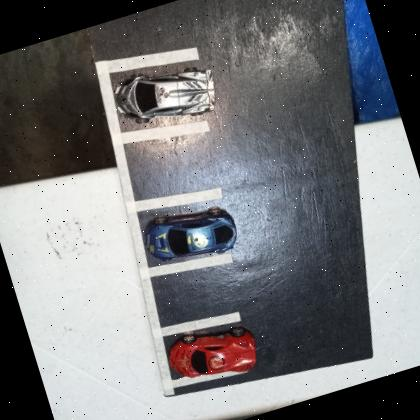Car: (110, 54, 225, 140), (136, 194, 244, 276), (162, 317, 264, 394)
